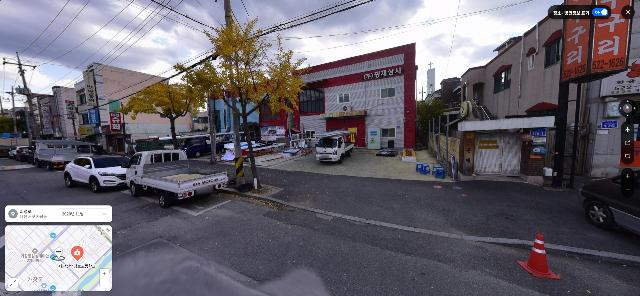ginkgo: (171, 6, 309, 191), (122, 82, 204, 150)
other: (415, 91, 446, 146)
